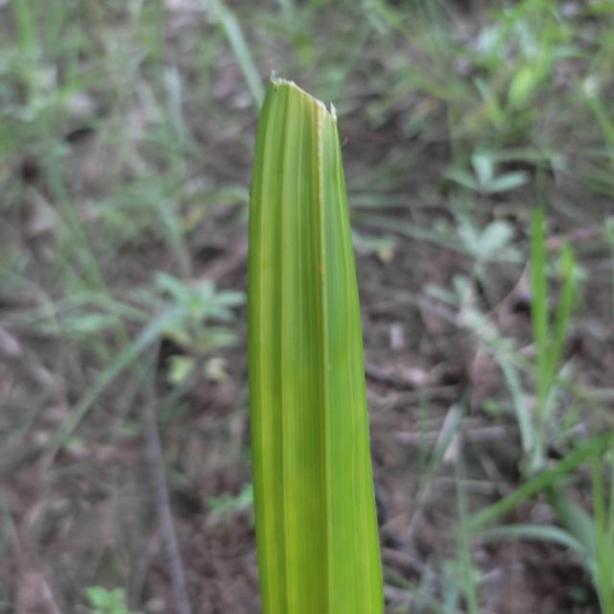nitrogen: (250, 145, 381, 614)
